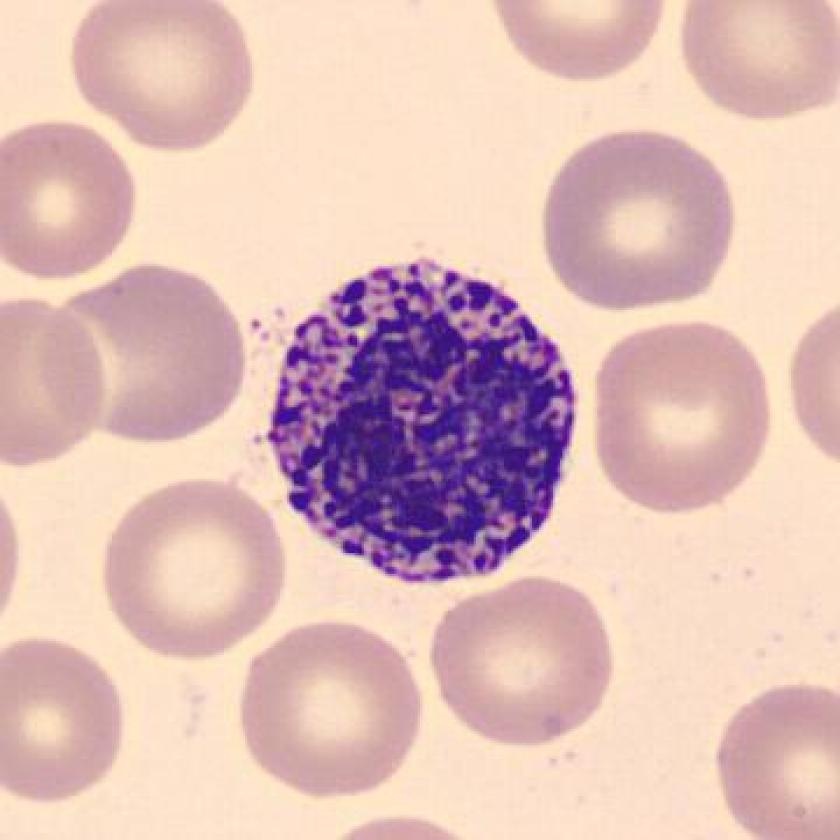basophil: (265, 246, 587, 582)
